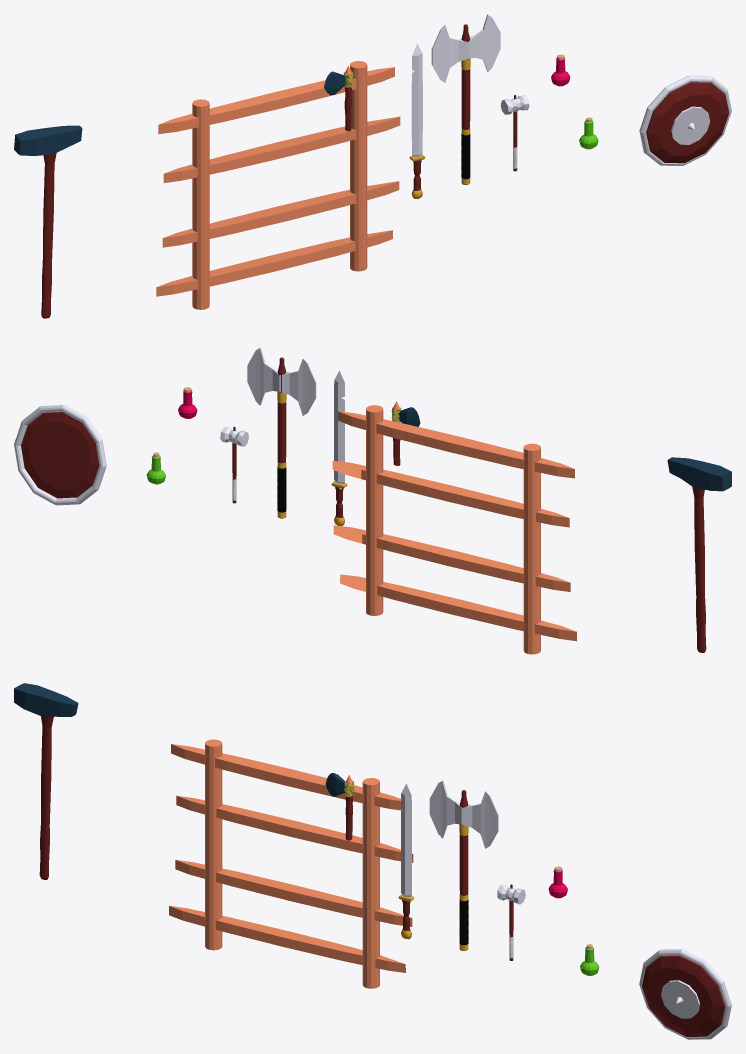
File: Hammer.fbx
The picture shows the model from 3 angles, top to bottom: view 1: azimuth 30°, elevation 25°; view 2: azimuth 150°, elevation 25°; view 3: azimuth 330°, elevation 25°; orthographic projection.
Parts seen in each view (by area): view 1: Cylinder.006, Cylinder.011, Cylinder.010, Cylinder.013, Cylinder.008, Cylinder.012, Cylinder, Cylinder.009, Cube.002, Sword.002, Torus.003, Cylinder.007 (+1 smaller); view 2: Cylinder.006, Cylinder.009, Cylinder.011, Cylinder.010, Cylinder.013, Cylinder.012, Cylinder.008, Cylinder, Cube.002, Torus.003, Sword.002, Cylinder.018; view 3: Cylinder.006, Cylinder.010, Cylinder.011, Cylinder.008, Cylinder.013, Cylinder.012, Cylinder, Cylinder.009, Cube.002, Sword.002, Torus.003, Cylinder.007 (+1 smaller).
Part boxes in pixels (x1,y1,x2,y2): Cylinder.006: (646,82,729,163); Cylinder.011: (192,99,209,309); Cylinder.010: (350,61,367,271); Cylinder.013: (162,181,399,247); Cylinder.008: (156,230,392,296); Cylinder.012: (163,116,400,182); Cylinder: (14,125,82,318); Cylinder.009: (158,67,394,134); Cube.002: (431,14,500,82); Sword.002: (409,44,425,198); Torus.003: (639,75,731,165); Cylinder.007: (671,106,710,144); Cylinder.006: (21,412,99,498); Cylinder.009: (338,411,574,478); Cylinder.011: (523,443,540,654); Cylinder.010: (366,405,383,615); Cylinder.013: (333,525,570,591); Cylinder.012: (332,461,569,527); Cylinder.008: (340,574,576,641); Cylinder: (667,457,731,652); Cube.002: (247,347,316,415); Torus.003: (14,405,106,505); Sword.002: (331,370,347,525); Cylinder.018: (277,357,286,518); Cylinder.006: (642,956,725,1036); Cylinder.010: (362,778,379,988); Cylinder.011: (205,739,222,950); Cylinder.008: (169,906,405,972); Cylinder.013: (175,860,412,926); Cylinder.012: (176,795,413,862); Cylinder: (14,683,78,879); Cylinder.009: (171,744,402,810); Cube.002: (429,780,498,848); Sword.002: (398,783,414,939); Torus.003: (639,949,731,1039); Cylinder.007: (661,980,699,1018).
Bounding box in the file's own units: 2256 × 692 × 111.
